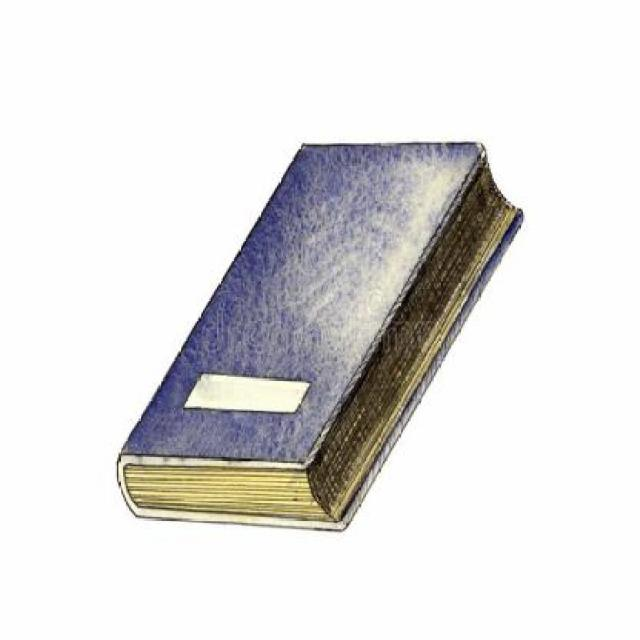book: (118, 84, 526, 589)
